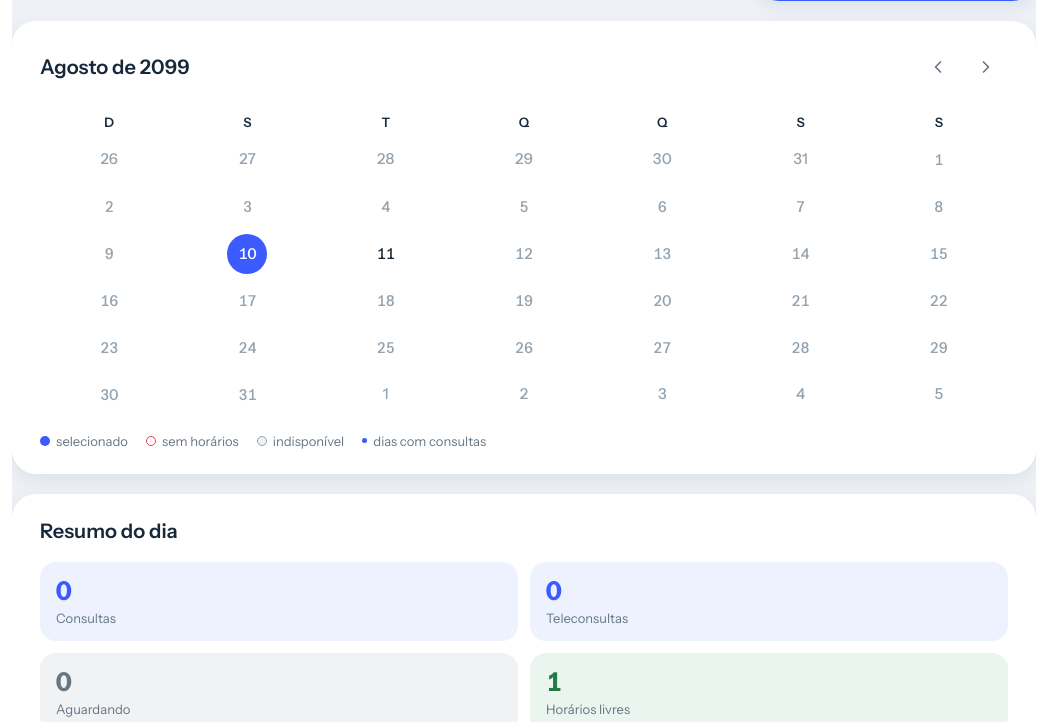
it: troca o dia pelo calendário e mantém a data na URL
Click the button named "11 de agosto de 2099, disponível, sem consultas" at (386, 254), box [364,232,408,276]
(page scrolled)
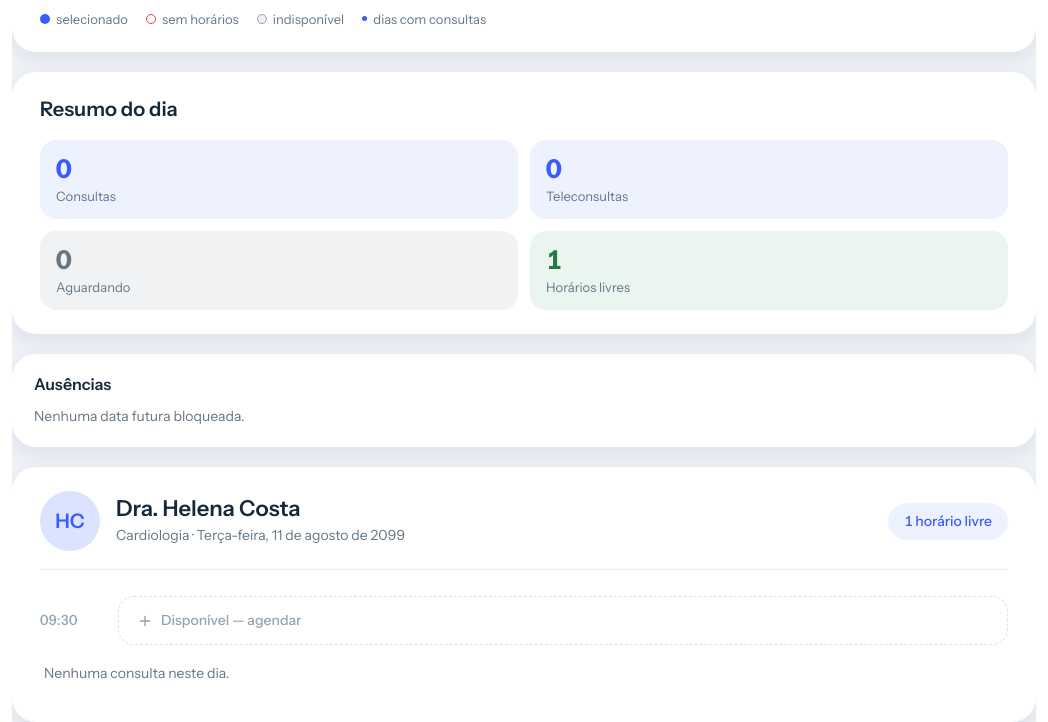
expect the text "Cardiologia · Terça-feira, 11 de agosto de 2099" is shown: met, box [116,526,405,544]
